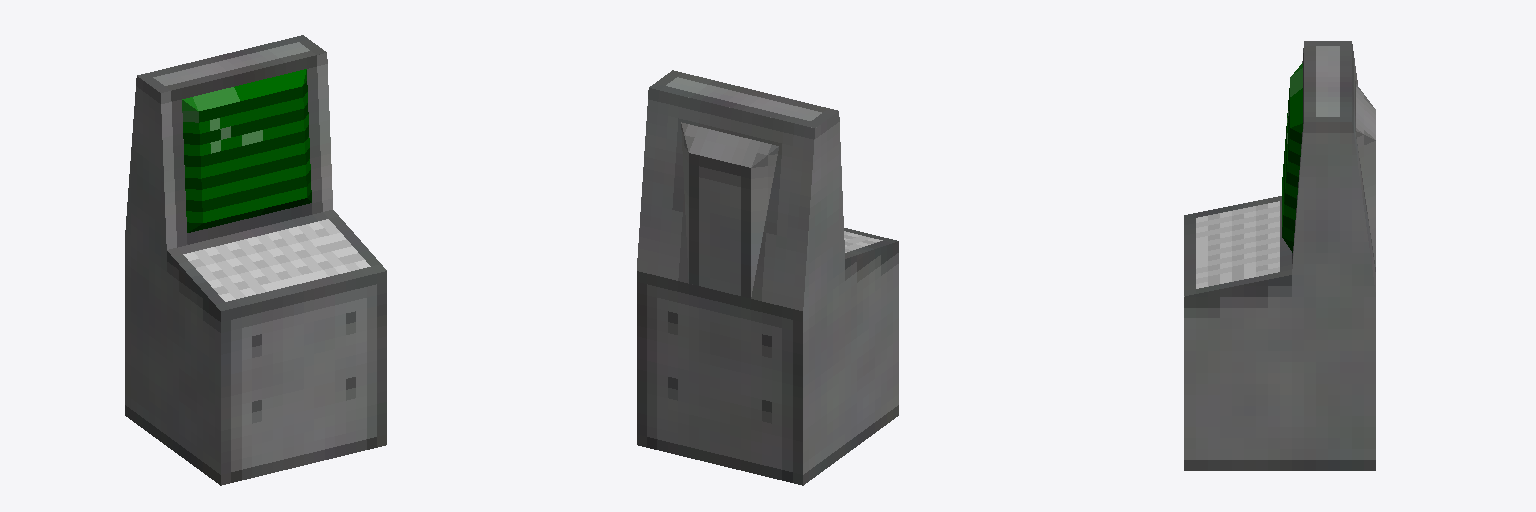
3 views of the same model, side by side, from view 1: azimuth 30°, elevation 25°; view 2: azimuth 150°, elevation 25°; view 3: azimuth 270°, elevation 25° (orthographic).
Parts seen in each view (by area): view 1: main, screen; view 2: main, back; view 3: main, screen, back.
Part boxes in pixels (left/top/right/bottom): main: left=125, top=35, right=386, bottom=485; screen: left=182, top=69, right=311, bottom=232; main: left=637, top=70, right=898, bottom=485; back: left=681, top=122, right=778, bottom=298; main: left=1184, top=41, right=1375, bottom=470; screen: left=1282, top=63, right=1302, bottom=252; back: left=1356, top=84, right=1375, bottom=266.
Bounding box in the file's own units: 1 × 2 × 1.
1 materials, 1 textured.